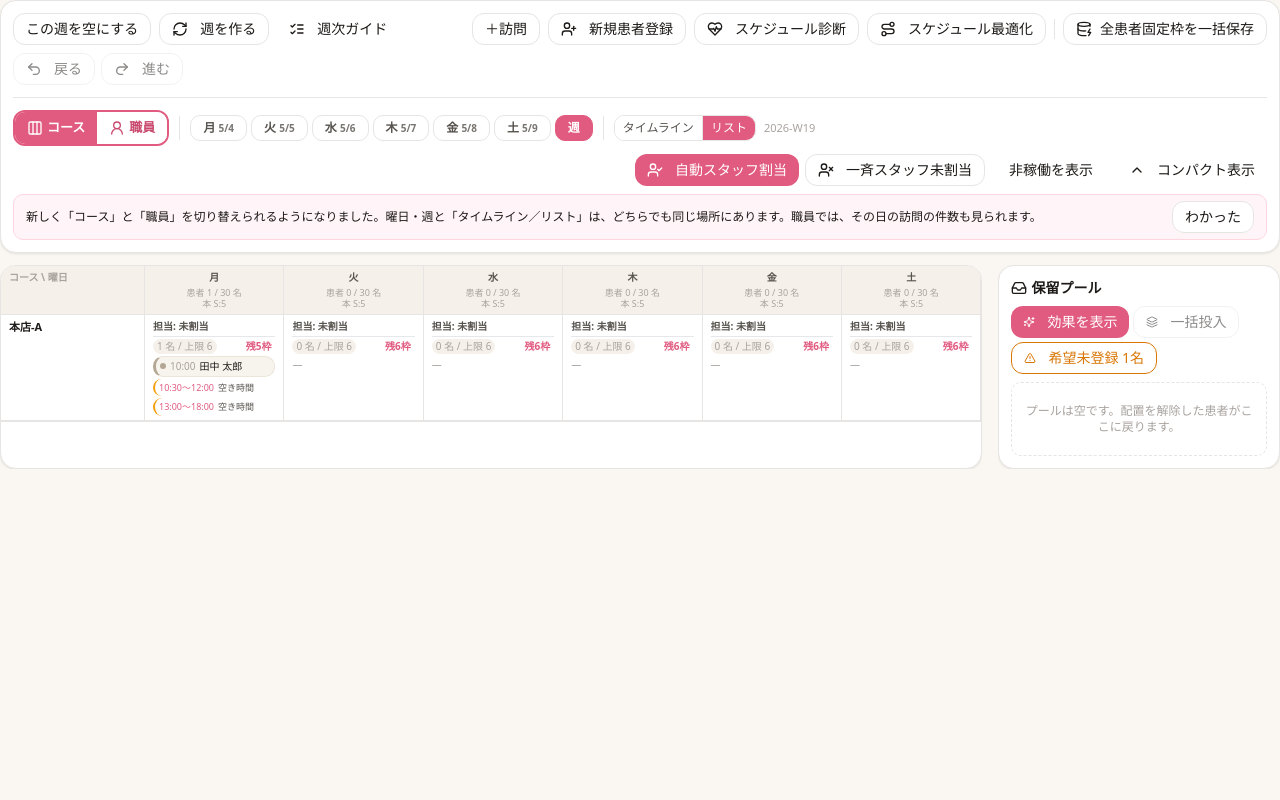
Test: CourseDayTablePanel — NG スタッフ / 性別制限の確認フロー (§7-2) › NC-1. 移動が 422 constraint_confirmation_required なら移動用の文言で確認ダイアログが出る
The image size is (1280, 800).
Click the tab with test id "course-day-tab-0" at (219, 128), box [190, 115, 247, 141]
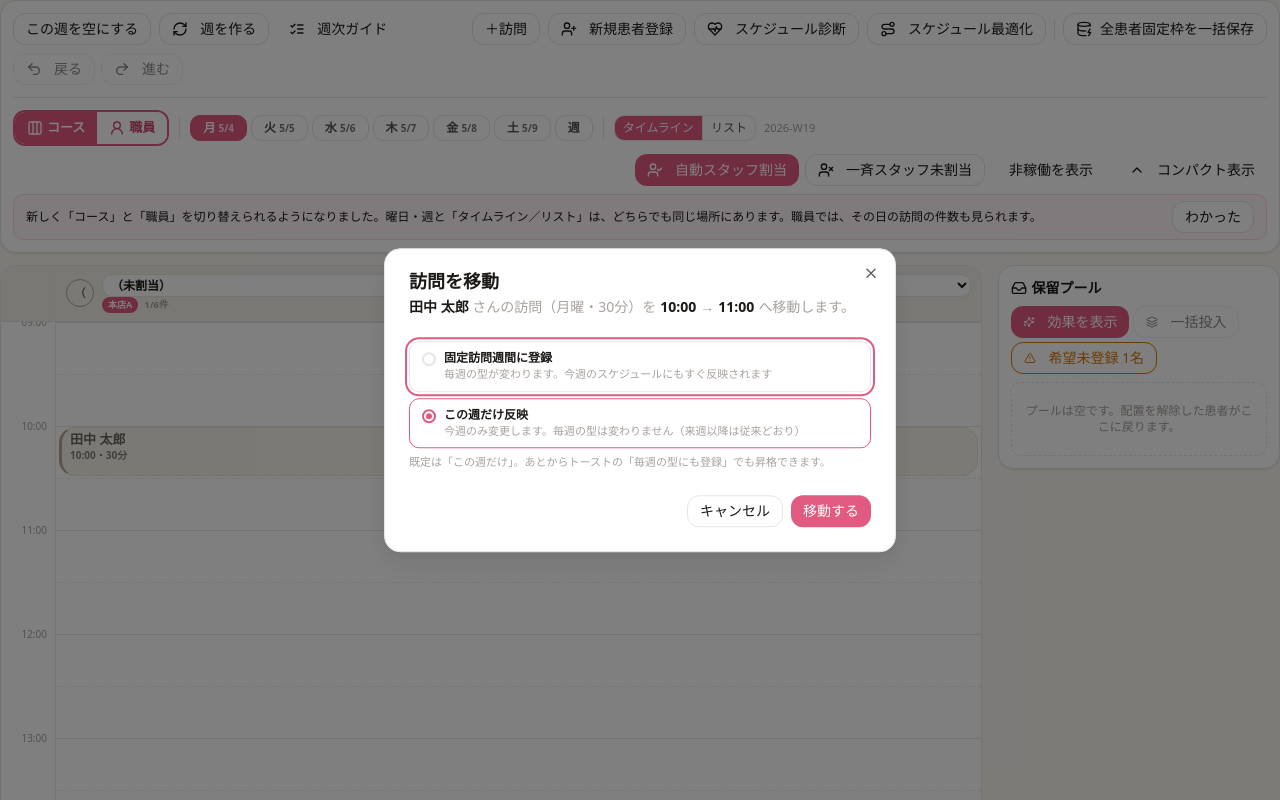
expect the dialog with test id "timeline-move-dialog" is shown: met, box [384, 248, 896, 552]
Click the button with test id "timeline-move-confirm" at (831, 511), box [791, 495, 871, 527]
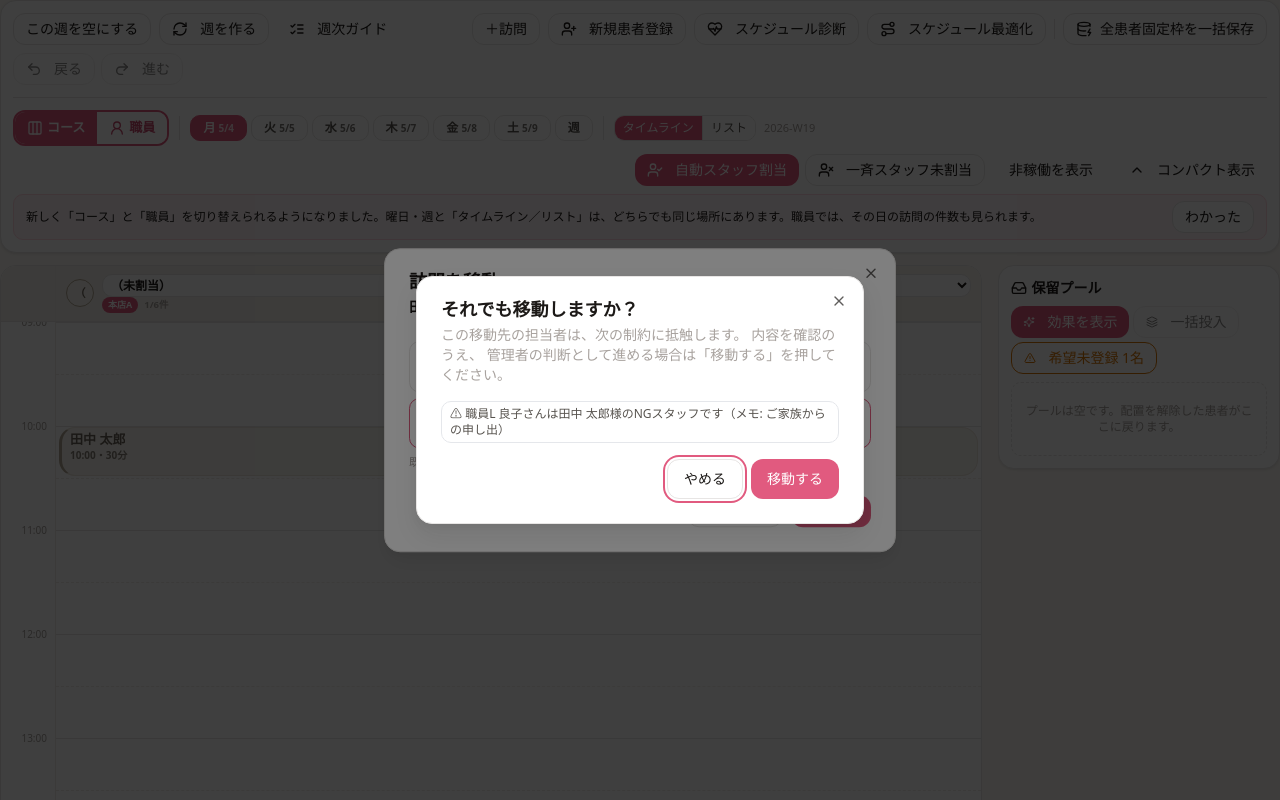
expect the dialog with test id "constraint-override-confirm" shows "それでも移動しますか？": met, box [441, 300, 638, 320]
expect the dialog with test id "constraint-override-confirm" shows "この移動先の担当者は、次の制約に抵触します": met, box [441, 325, 734, 344]
expect the button with test id "constraint-override-ok" reads "移動する": met, box [751, 459, 839, 499]
